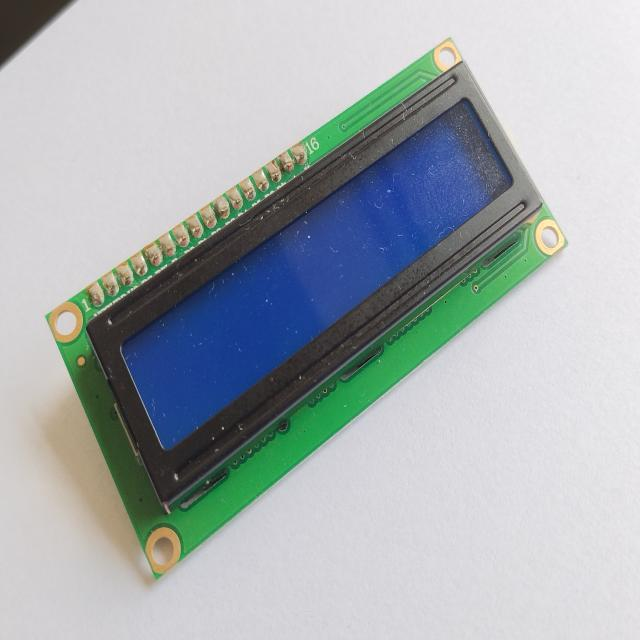lcd: (40, 23, 575, 607)
